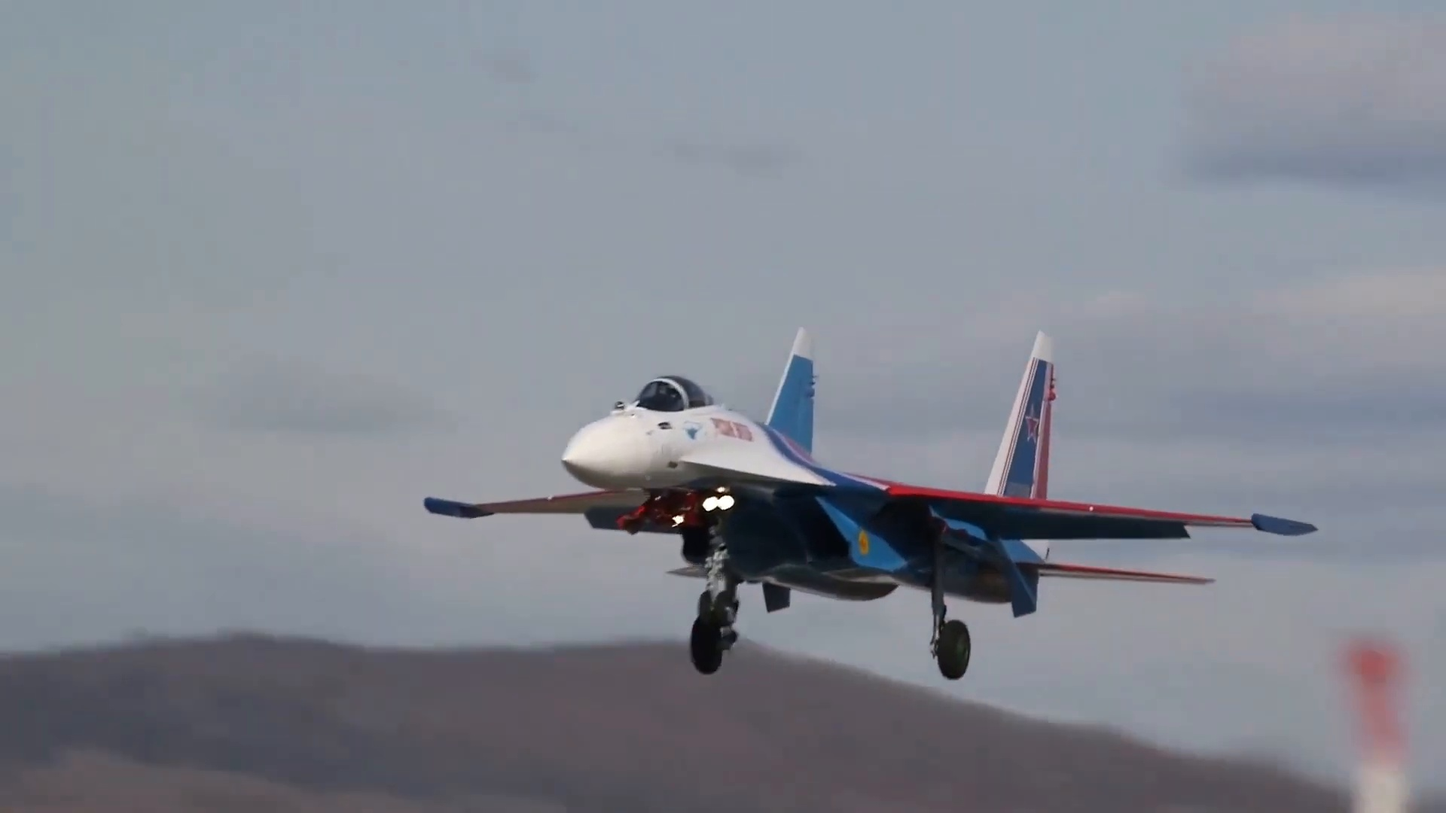Su35: (424, 328, 1318, 680)
